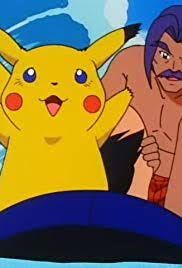pikachu: (1, 15, 145, 215)
